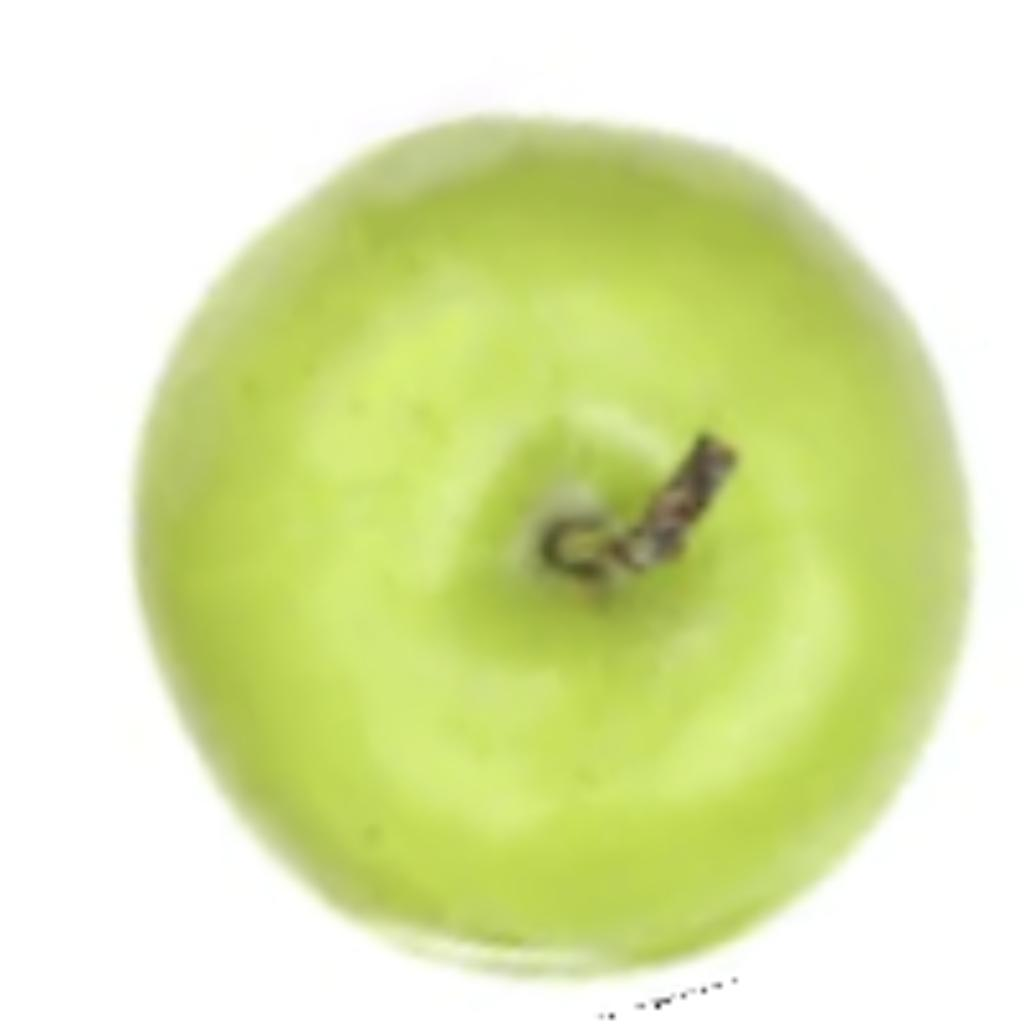apple: (118, 102, 983, 988)
